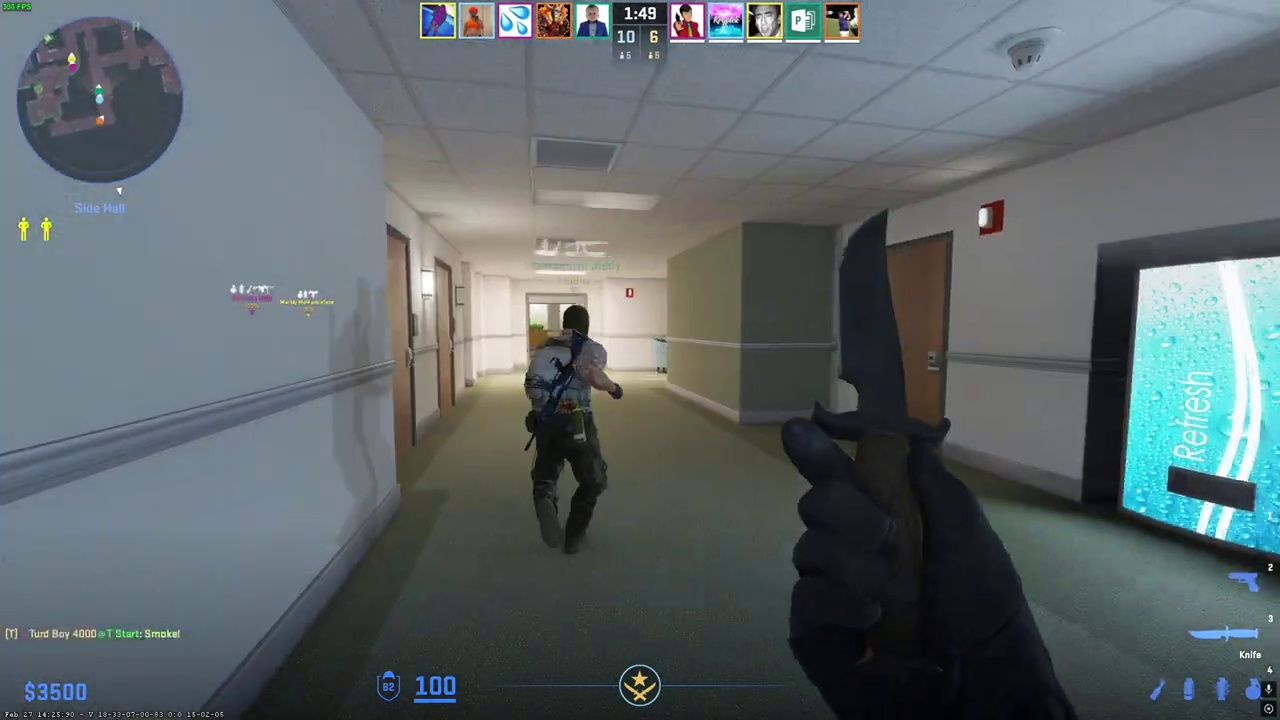Terrorist: (524, 305, 618, 554)
